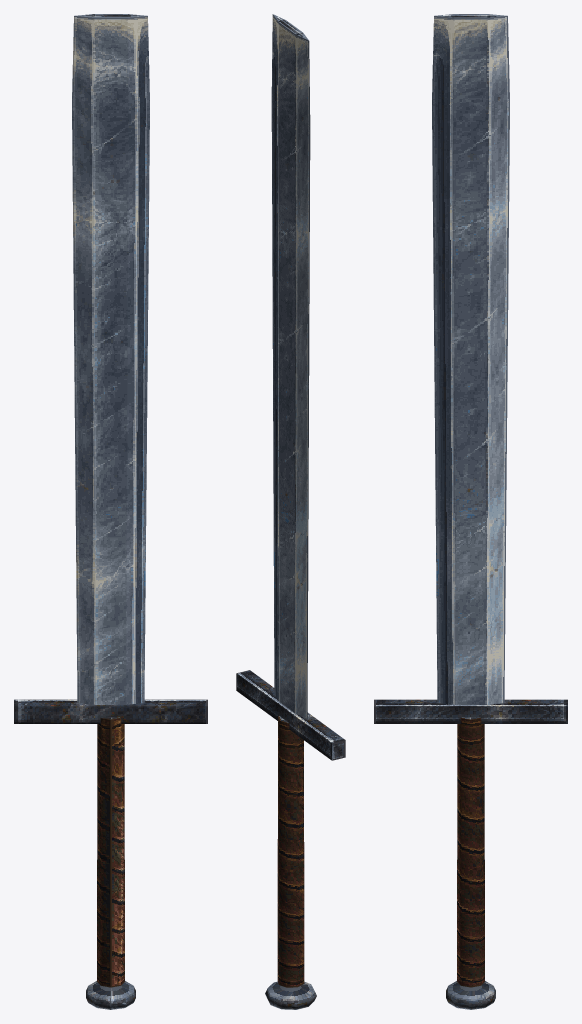
The model's file is headsman.glb.
The picture shows the model from 3 angles, left to right: view 1: azimuth 90°, elevation 25°; view 2: azimuth 210°, elevation 25°; view 3: azimuth 270°, elevation 25°; orthographic projection.
Visible parts, largest first — view 1: headsman; view 2: headsman; view 3: headsman.
Boxes of the visible parts, box(x1,y1,x2,y2) form: headsman: box(14, 14, 207, 1009); headsman: box(236, 14, 345, 1009); headsman: box(374, 14, 567, 1009).
Bounding box in the file's own units: 0.06 × 1.24 × 0.22.
Materials: 1 (1 with a texture image).
